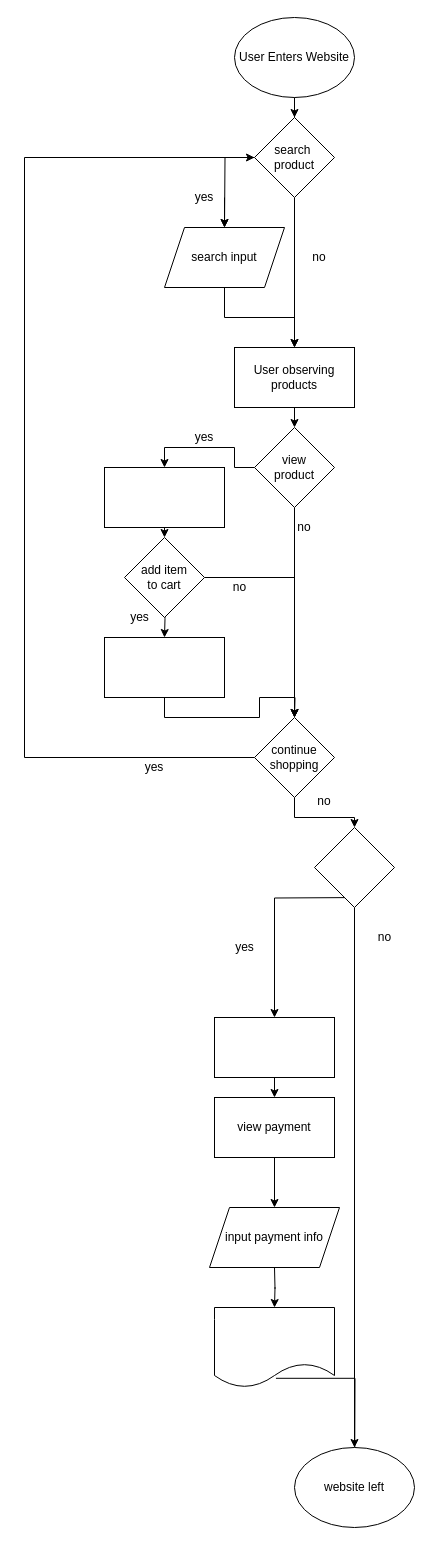
This 432x1545 diagram has some shape labels left out. Each missing label, with the box of its shape:
added to cart confirmation: (104, 636, 224, 698)
checkout: (314, 826, 394, 908)
order confirmation screen & email: (214, 1306, 334, 1388)
product web page: (104, 466, 224, 528)
view cart: (214, 1016, 334, 1078)
